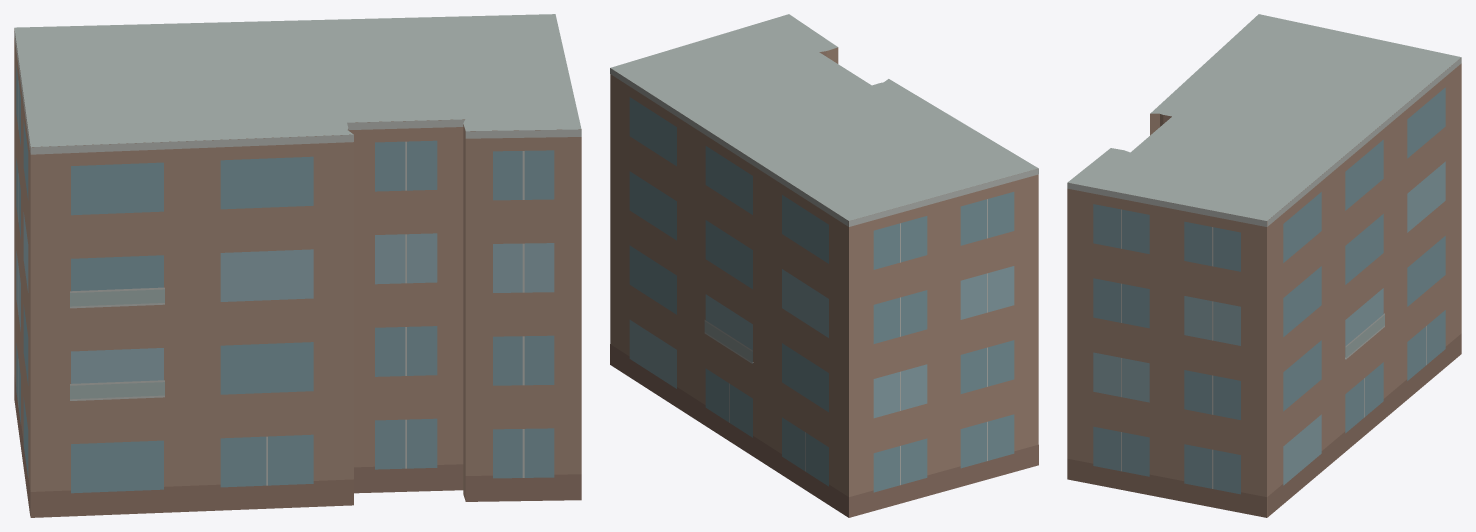
Rendered from survey-upis-32884306.glb.
3 renders of one model, left to right at view 1: azimuth 30°, elevation 25°; view 2: azimuth 150°, elevation 25°; view 3: azimuth 270°, elevation 25°, orthographic. The views are drawn at different scales.
Parts seen in each view (by area): view 1: survey-upis-32884306.tmp; view 2: survey-upis-32884306.tmp; view 3: survey-upis-32884306.tmp.
Part boxes in pixels (box(x1,y1,x2,y2)): survey-upis-32884306.tmp: box(14, 14, 581, 517); survey-upis-32884306.tmp: box(610, 14, 1038, 517); survey-upis-32884306.tmp: box(1067, 14, 1461, 517).
Bounding box in the file's own units: 17.97 × 12 × 14.46.
